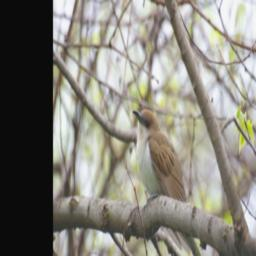Cuckoo: (132, 109, 217, 256)
